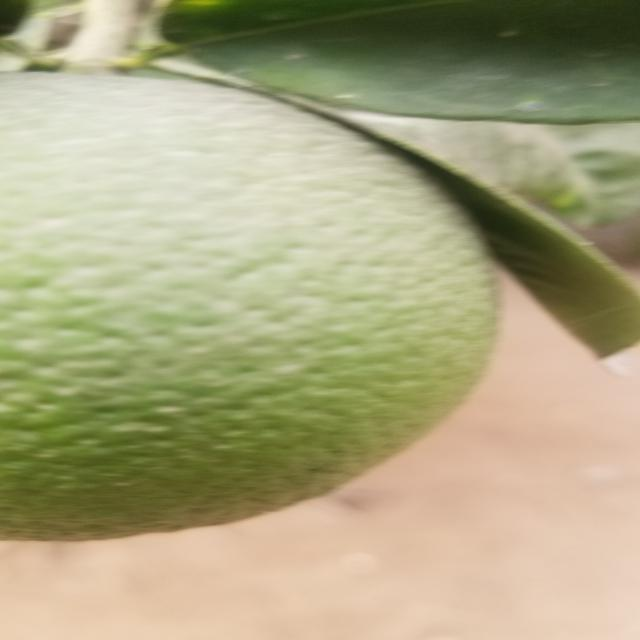Unripe: (0, 59, 529, 554)
